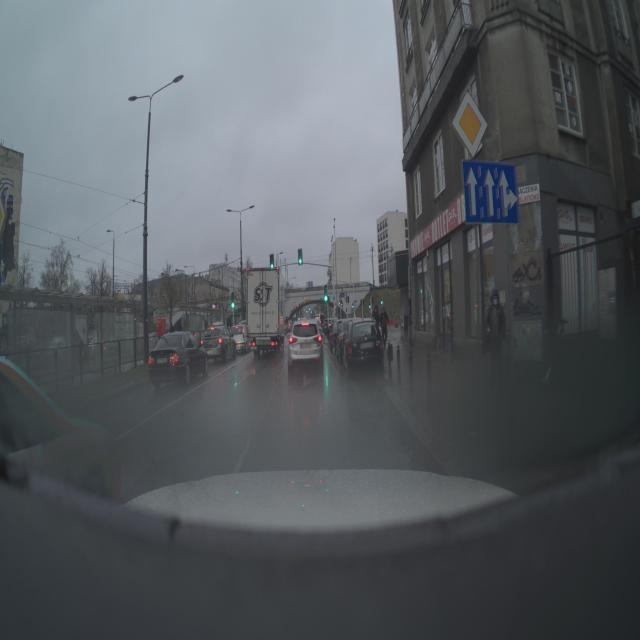green_light: (227, 290, 236, 310), (296, 246, 304, 268), (323, 283, 330, 305), (268, 253, 276, 269)
